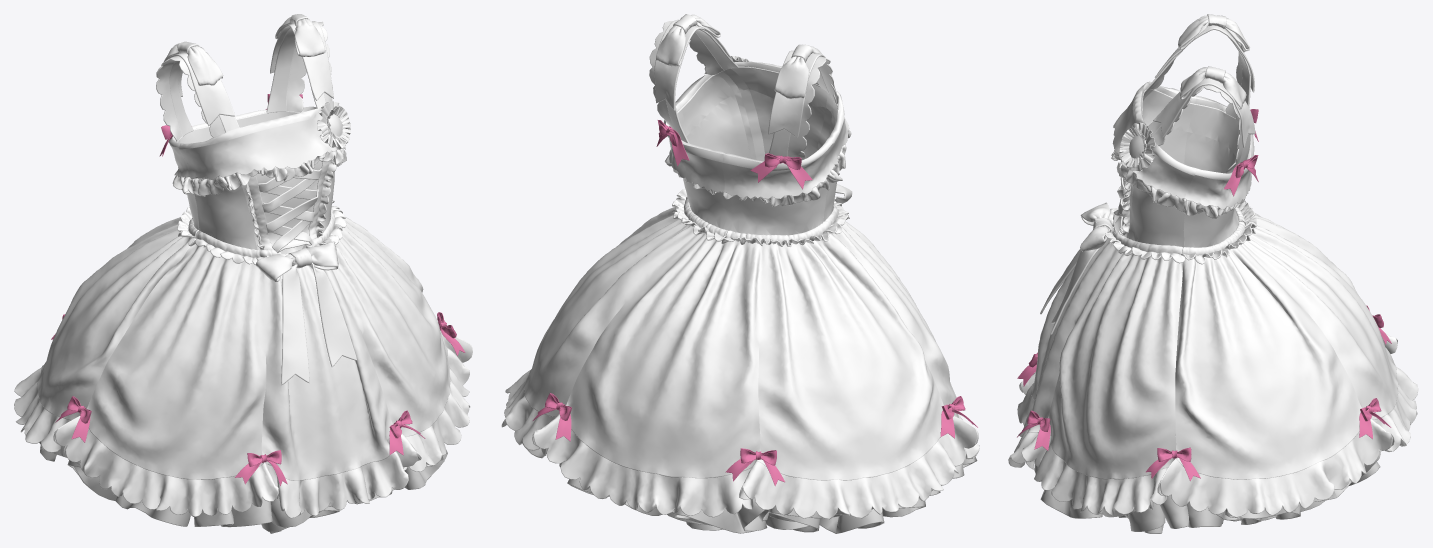
The model's file is mydoll12.fbx.
3 renders of one model, left to right at view 1: azimuth 30°, elevation 25°; view 2: azimuth 150°, elevation 25°; view 3: azimuth 270°, elevation 25°, orthographic. The views are drawn at different scales.
Parts seen in each view (by area): view 1: SKIRT (×4), Object (×14), BODY (×7), FRILLSKIRT (×2), Object_5, Object_4, Object_1; view 2: SKIRT (×3), BODY (×7), Object (×10), FRILLSKIRT; view 3: SKIRT (×4), Object (×12), BODY (×5), FRILLSKIRT (×2), Object_1, Object_4.
Part boxes in pixels (x1,y1,x2,y2): SKIRT (×4): (14, 217, 472, 518); Object (×14): (164, 17, 346, 264); BODY (×7): (156, 21, 332, 254); FRILLSKIRT (×2): (67, 449, 447, 533); Object_5: (281, 264, 309, 384); Object_4: (309, 262, 356, 366); Object_1: (255, 242, 338, 281); SKIRT (×3): (501, 207, 977, 519); BODY (×7): (649, 21, 836, 243); Object (×10): (654, 14, 849, 246); FRILLSKIRT: (625, 498, 925, 533); SKIRT (×4): (1008, 213, 1418, 517); Object (×12): (1105, 15, 1256, 264); BODY (×5): (1127, 37, 1250, 247); FRILLSKIRT (×2): (1034, 449, 1381, 533); Object_1: (1080, 202, 1110, 251); Object_4: (1050, 241, 1106, 334).
Size of the model in its own units: 855 by 877 by 741.
